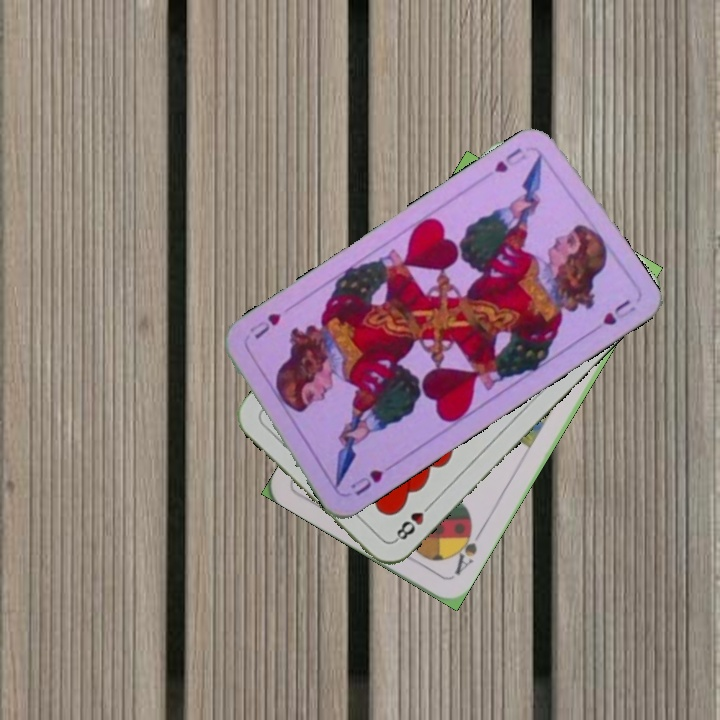H8: (390, 498, 436, 544)
HU: (347, 465, 386, 499), (490, 143, 529, 176)
SA: (447, 521, 485, 578)
